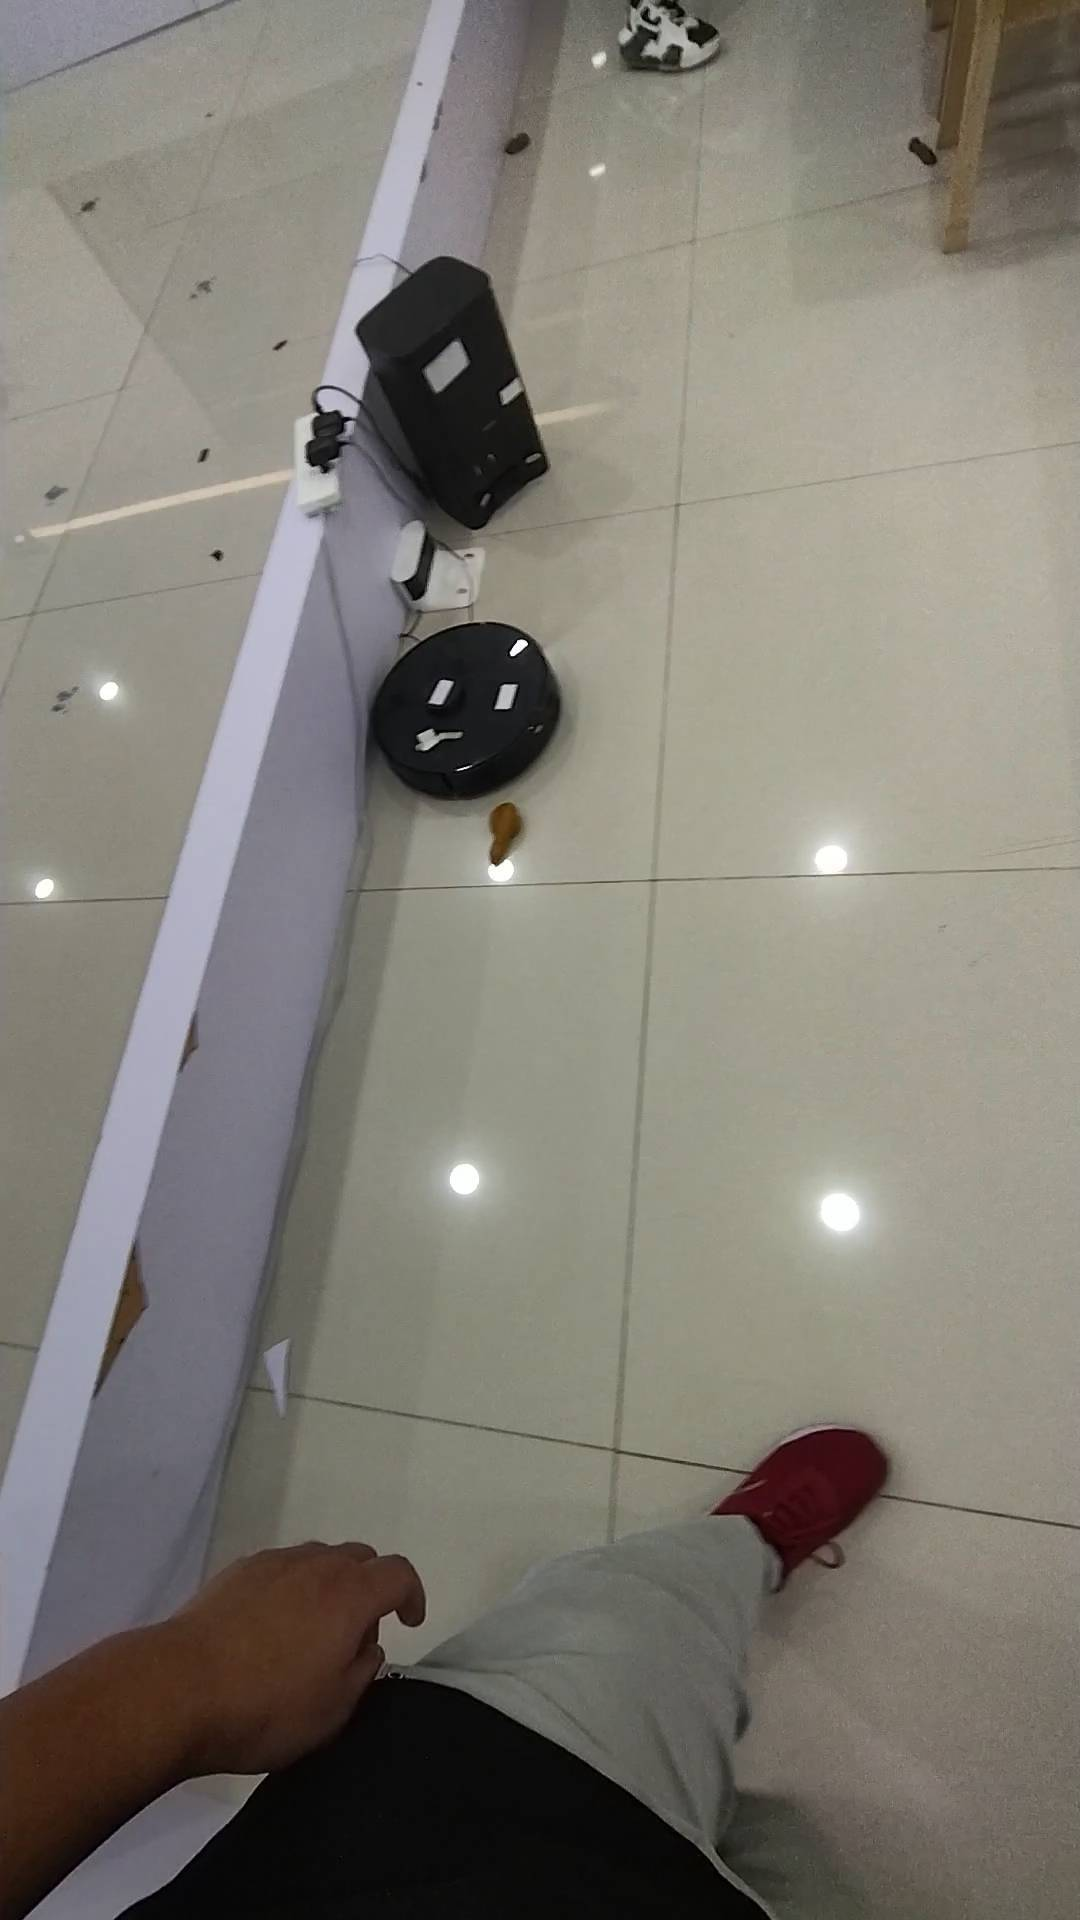dust collecting barrel: (357, 255, 553, 527)
recharge seat: (393, 516, 489, 609)
